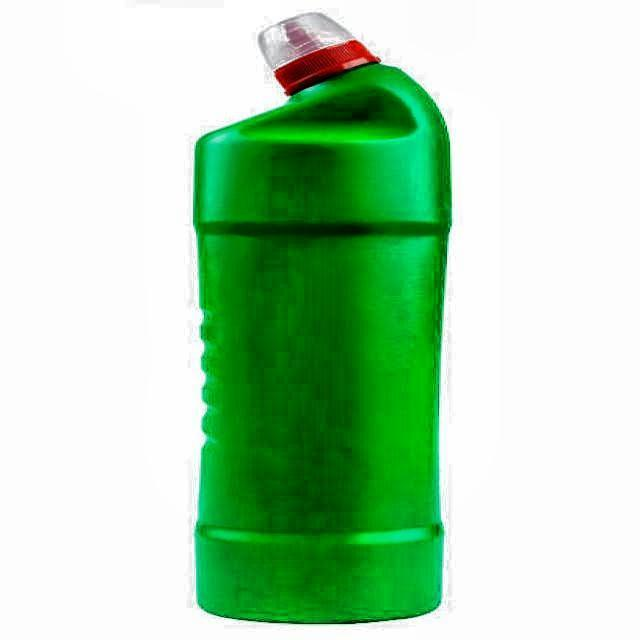plastic: (191, 14, 454, 629)
